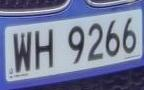2: (85, 18, 105, 66)
6: (120, 15, 139, 55), (103, 16, 121, 58)
9: (64, 22, 87, 68)
H: (32, 25, 58, 77)
W: (10, 28, 34, 77)
